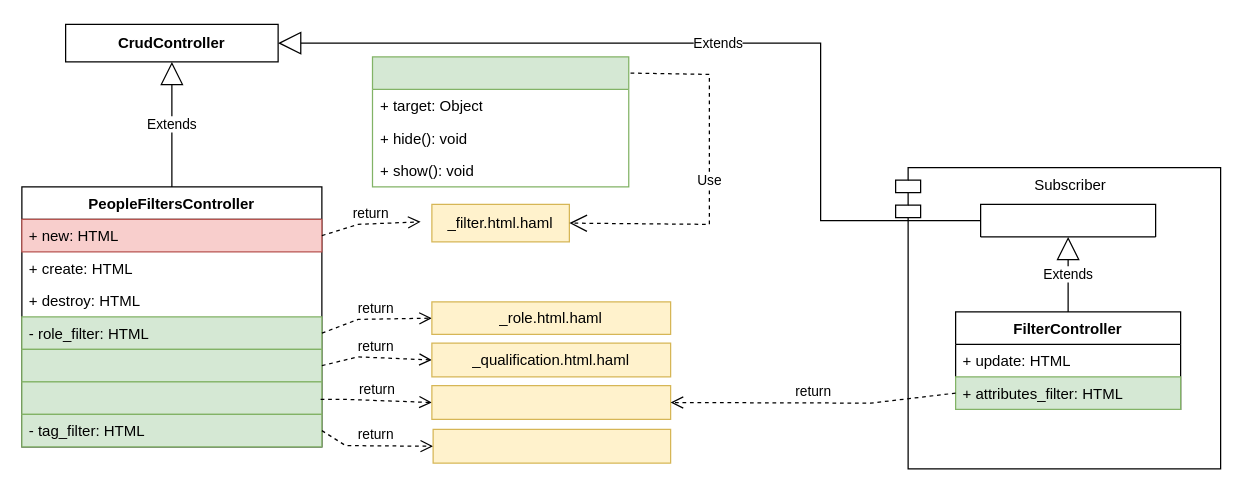
This 1243x491 diagram has some shape labels left out. Each missing label, with the box of its shape:
- attributes_filter: HTML: (21, 381, 322, 414)
- qualification_filter: HTML: (21, 348, 322, 382)
_attributes.html.haml: (431, 384, 671, 419)
_tag.html.haml: (432, 428, 671, 463)
BaseController: (979, 203, 1156, 237)
FilterDropdownController: (371, 56, 629, 187)
